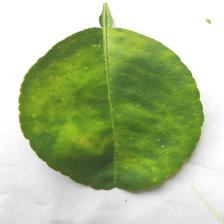greening: (47, 58, 183, 161)
